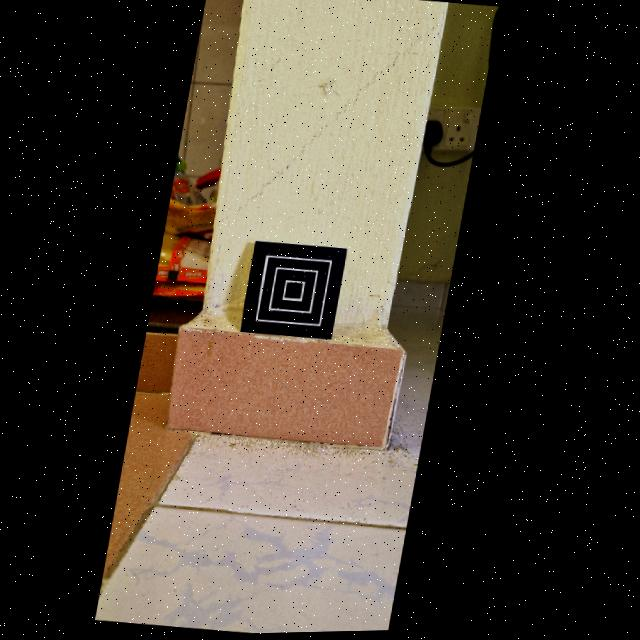BULLSEYE: (245, 242, 350, 340)
